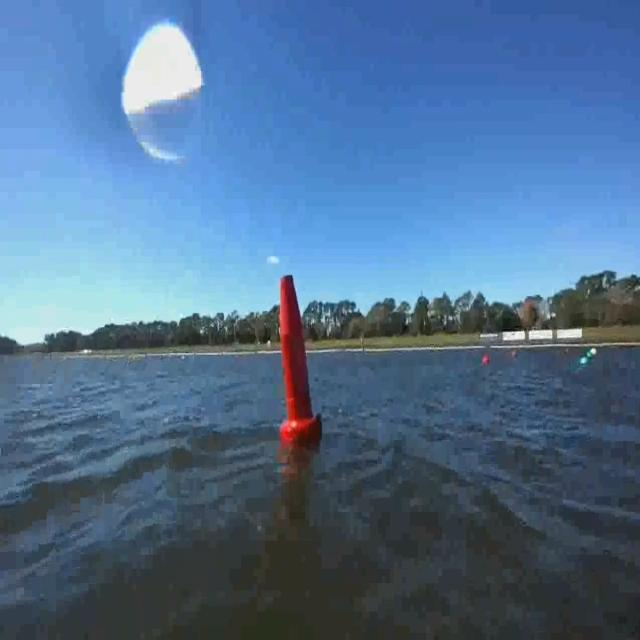green-buoy: (580, 352, 590, 373)
red-buoy: (482, 353, 491, 370)
red-column-buoy: (277, 269, 319, 443)
